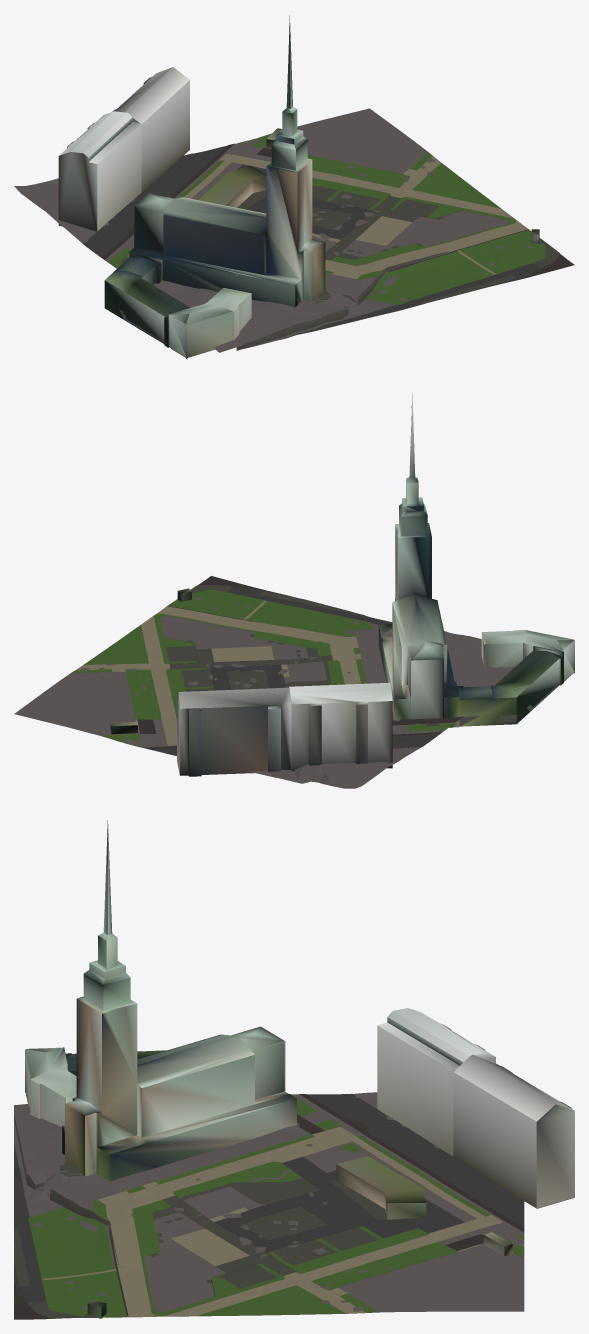
3 views of the same model, one above another, from view 1: azimuth 30°, elevation 25°; view 2: azimuth 150°, elevation 25°; view 3: azimuth 270°, elevation 25° (orthographic). The views are drawn at different scales.
Parts seen in each view (by area): view 1: c_m06_p09; view 2: c_m06_p09; view 3: c_m06_p09.
Boxes of the visible parts, x1,y1,x2,y2 form: c_m06_p09: [14, 15, 574, 359]; c_m06_p09: [14, 391, 574, 788]; c_m06_p09: [14, 820, 574, 1319].
Bounding box in the file's own units: 142 × 98.88 × 141.
